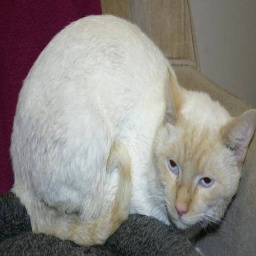cat: (17, 10, 245, 244)
